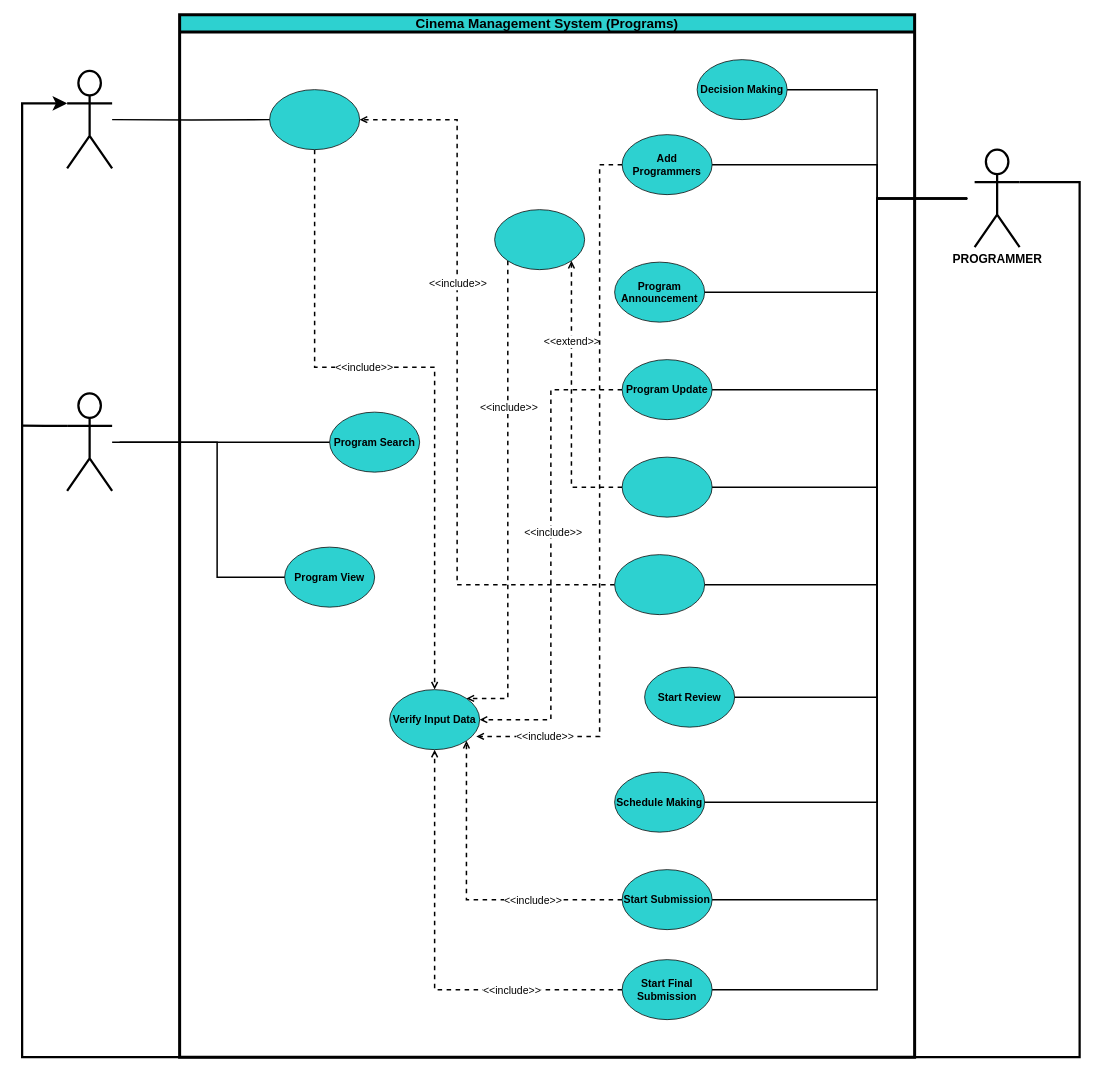
Image size: 1103x1080. Some labels were removed from this diagram. Each missing label, with the centre of its shape:
Add Staff: pixel 314 119
Program Creation: pixel 539 239
Program Deletion: pixel 666 486
STAFF: pixel 89 119
Start Staff Assignment: pixel 659 584
VISITOR: pixel 89 442
